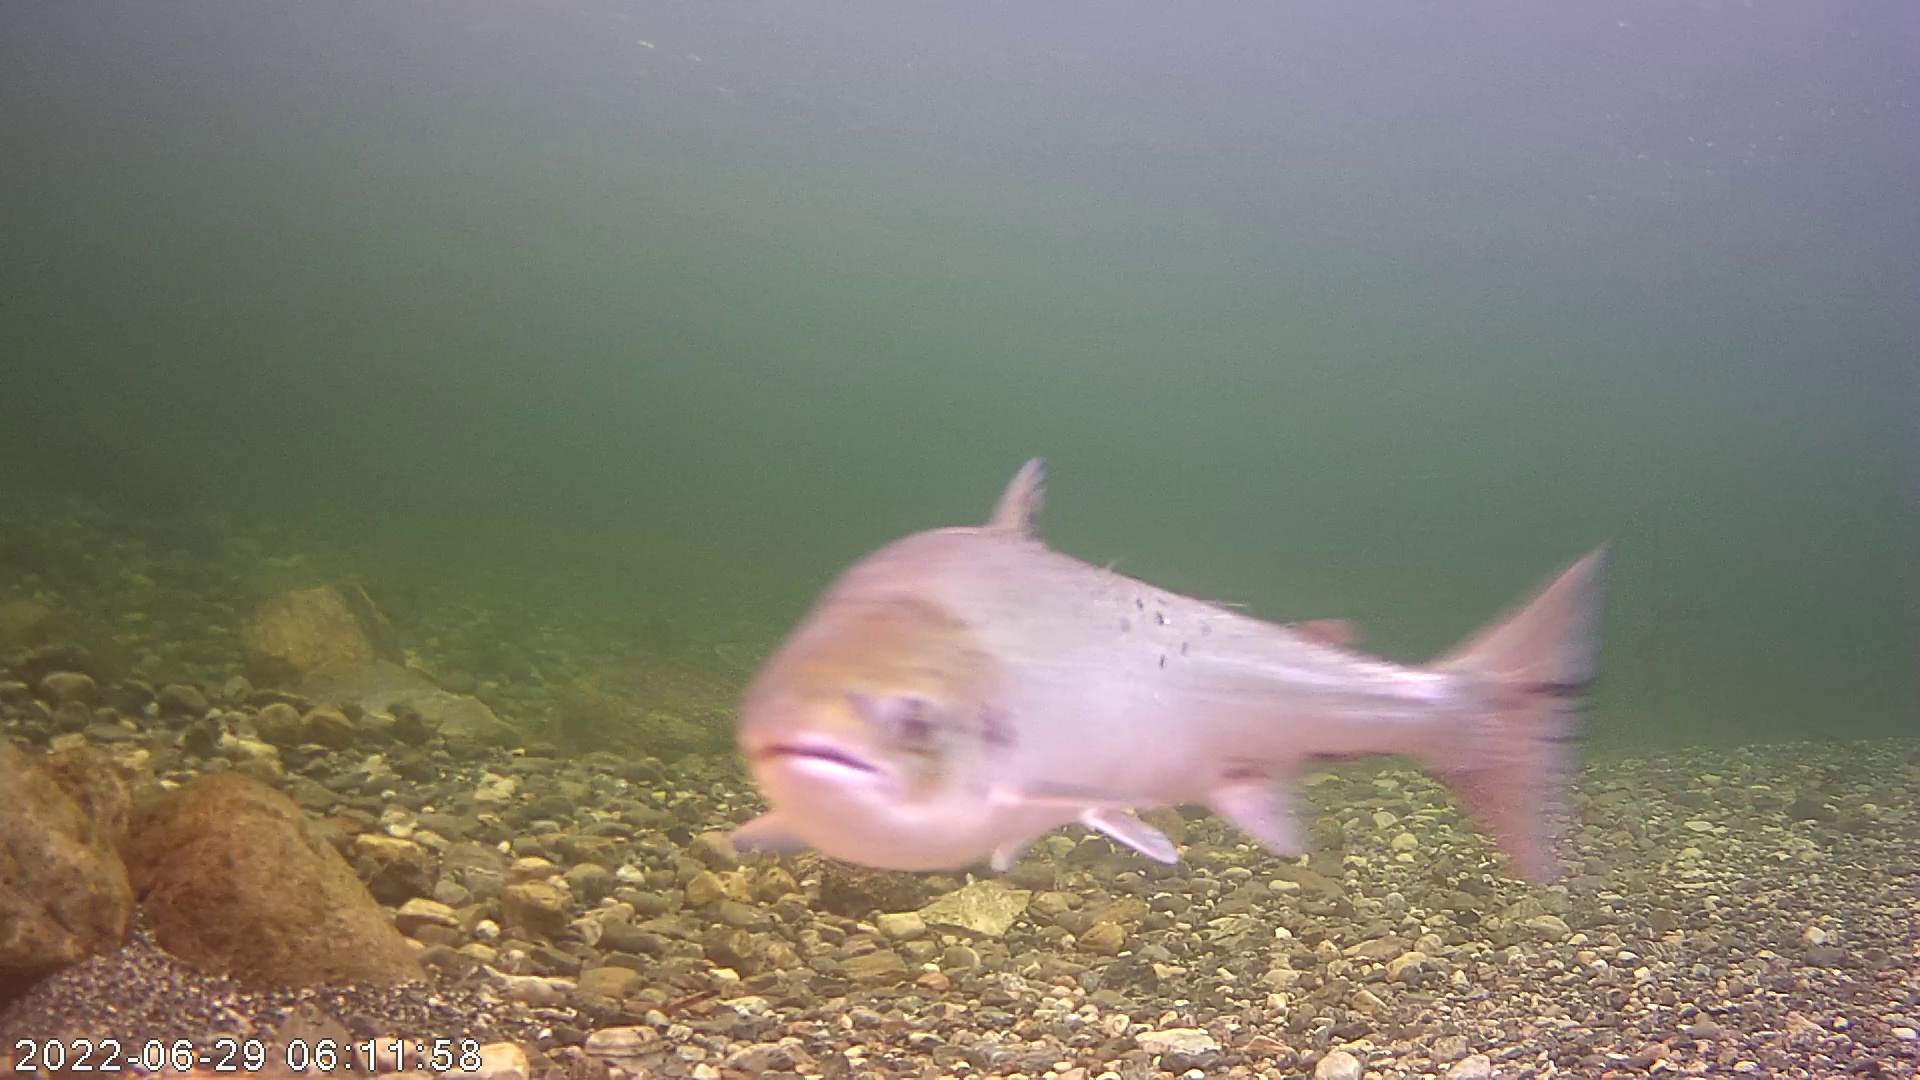salmon: (720, 433, 1622, 906)
